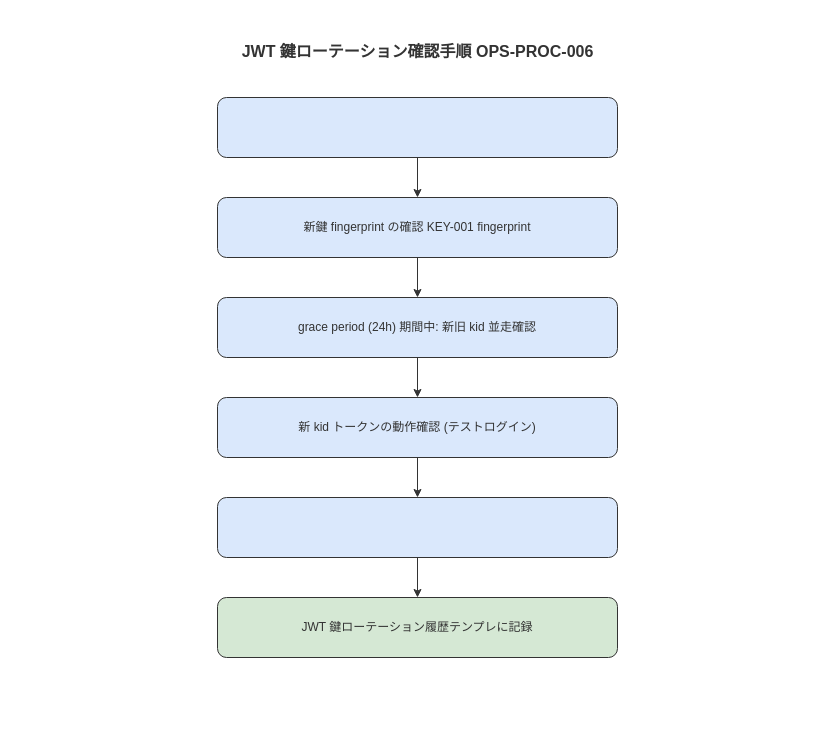
This 834x734 diagram has some shape labels left out. The centre of each missing label's shape, as x and y in pixels:
"BAT-010 自動ローテーション実行確認" belongs at point (417, 127).
"grace period 終了後: 旧 kid 完全失効確認" belongs at point (417, 527).
